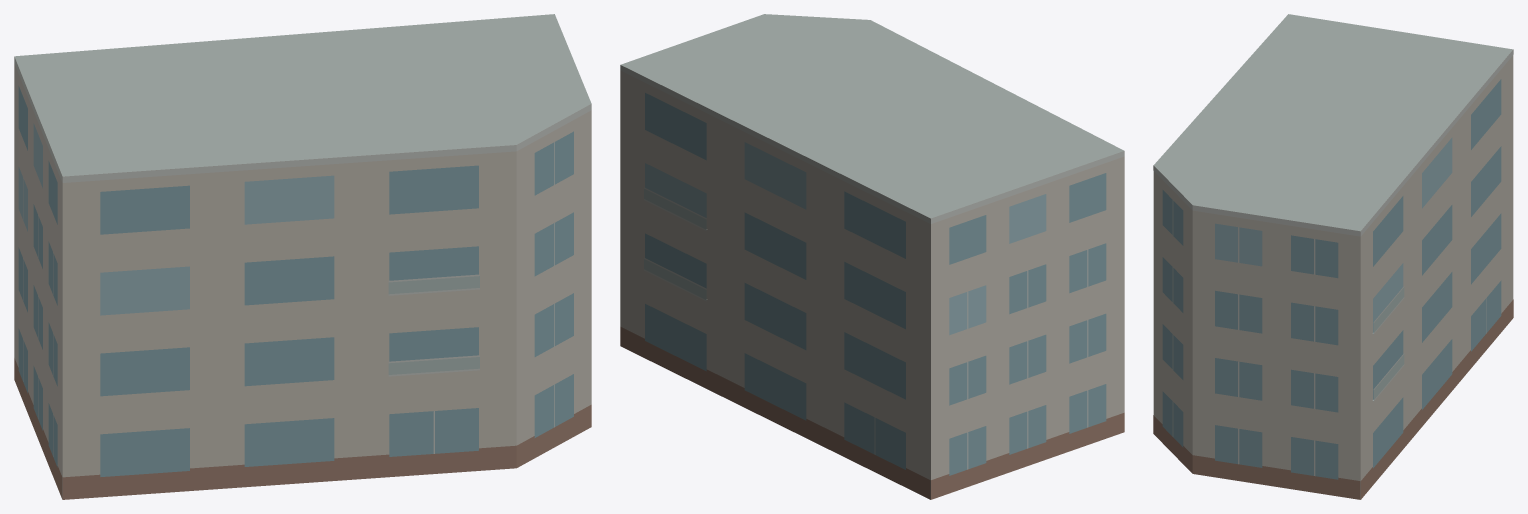
Rendered from survey-upis-32710383.glb.
The picture shows the model from 3 angles, left to right: view 1: azimuth 30°, elevation 25°; view 2: azimuth 150°, elevation 25°; view 3: azimuth 270°, elevation 25°; orthographic projection. The views are drawn at different scales.
Visible parts, largest first — view 1: survey-upis-32710383.tmp; view 2: survey-upis-32710383.tmp; view 3: survey-upis-32710383.tmp.
Boxes of the visible parts, x1,y1,x2,y2 form: survey-upis-32710383.tmp: (14, 14, 591, 499); survey-upis-32710383.tmp: (620, 14, 1124, 499); survey-upis-32710383.tmp: (1153, 14, 1513, 499).
Bounding box in the file's own units: 21.17 × 12.2 × 14.82.
